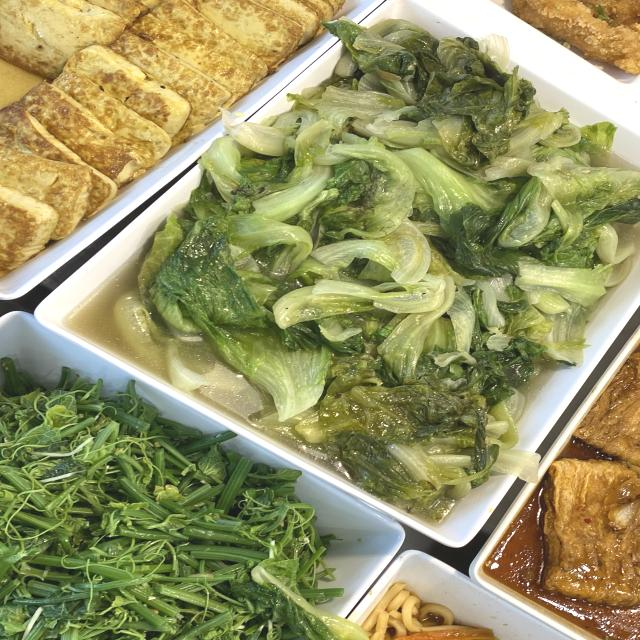Fushan-lettuce: (258, 149, 547, 390)
